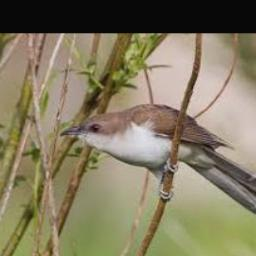Cuckoo: (60, 103, 256, 219)
